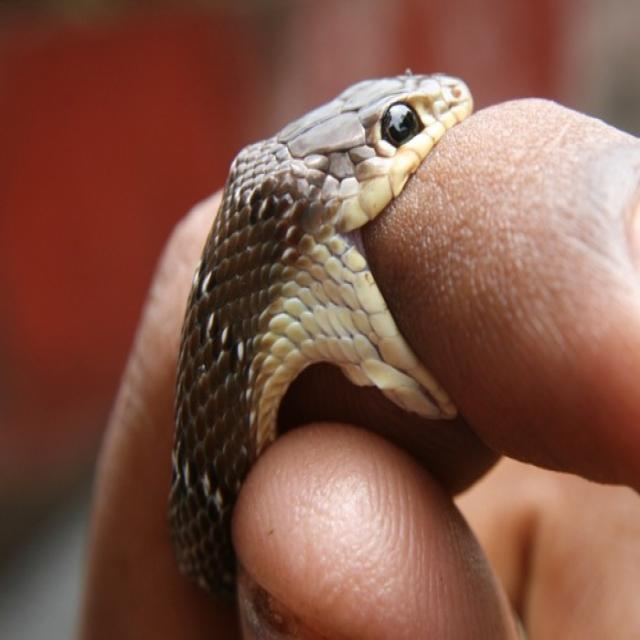Snake: (166, 67, 474, 602)
